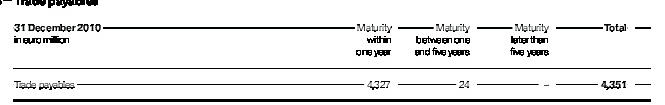table: (0, 0, 665, 105)
